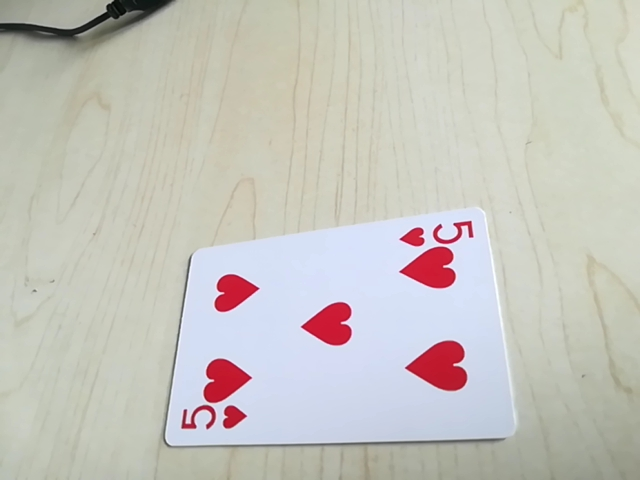hx 5: (398, 214, 481, 250), (176, 402, 249, 440)
